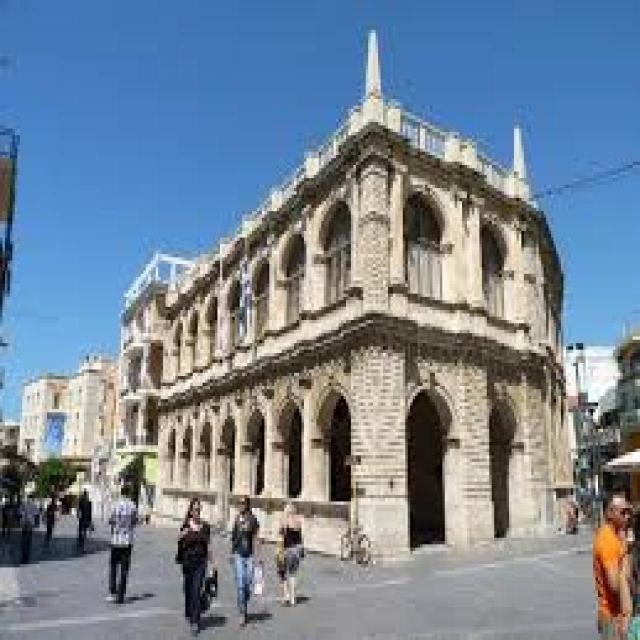Loggia: (164, 29, 586, 554)
